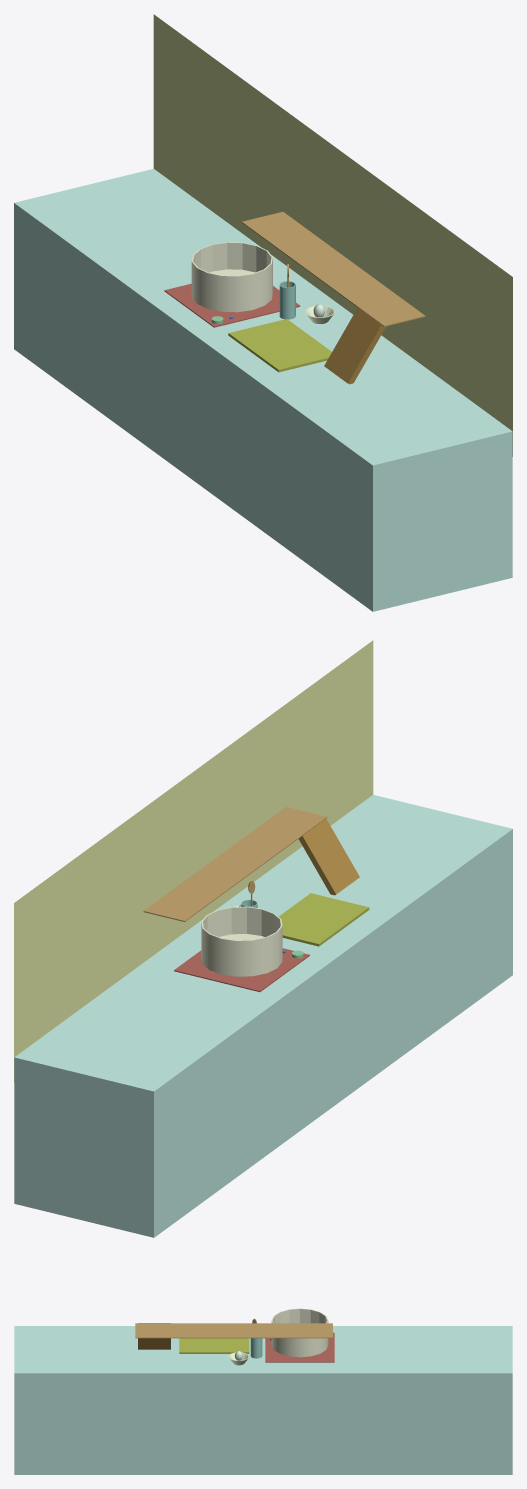
The model's file is KitchenBlockout.glb.
3 renders of one model, top to bottom at view 1: azimuth 30°, elevation 25°; view 2: azimuth 150°, elevation 25°; view 3: azimuth 270°, elevation 25°, orthographic. The views are drawn at different scales.
Parts seen in each view (by area): view 1: Bench, Splashback, Shelf, Pot, Chopping Board, Book, Hob; view 2: Bench, Splashback, Shelf, Pot, Chopping Board, Book, Hob; view 3: Bench, Shelf, Pot, Chopping Board, Hob, Book, Spoon Holder.
Part boxes in pixels (x1,y1,x2,y2): Bench: [14, 168, 512, 611]; Splashback: [153, 14, 512, 456]; Shelf: [242, 211, 425, 326]; Pot: [191, 242, 272, 312]; Chopping Board: [228, 319, 331, 372]; Book: [324, 307, 385, 384]; Hob: [164, 283, 300, 327]; Bench: [14, 794, 512, 1237]; Splashback: [14, 640, 373, 1082]; Shelf: [143, 807, 327, 921]; Pot: [201, 906, 282, 976]; Chopping Board: [279, 893, 369, 946]; Book: [299, 818, 359, 895]; Hob: [174, 948, 309, 991]; Bench: [14, 1326, 512, 1474]; Shelf: [135, 1323, 332, 1338]; Pot: [271, 1308, 328, 1357]; Chopping Board: [179, 1338, 249, 1353]; Hob: [265, 1332, 334, 1362]; Book: [138, 1323, 170, 1349]; Spoon Holder: [250, 1338, 262, 1358].
Bounding box in the file's own units: 0.902 × 1.85 × 4.01.
